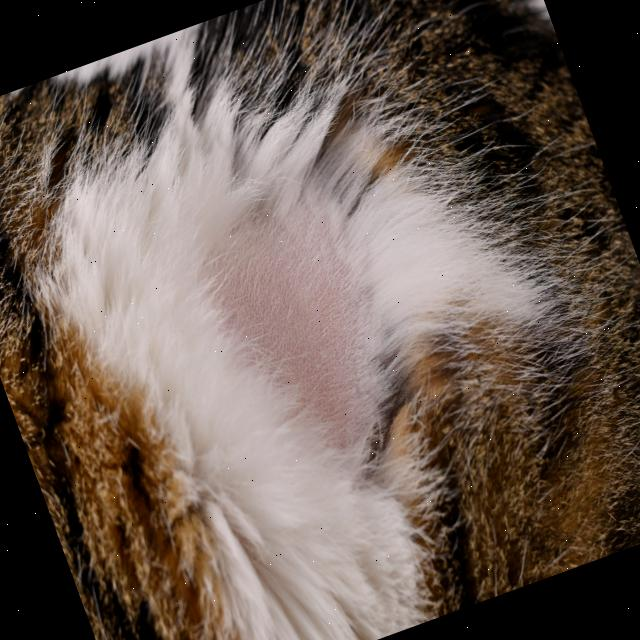cat-hairloss: (130, 150, 446, 495)
